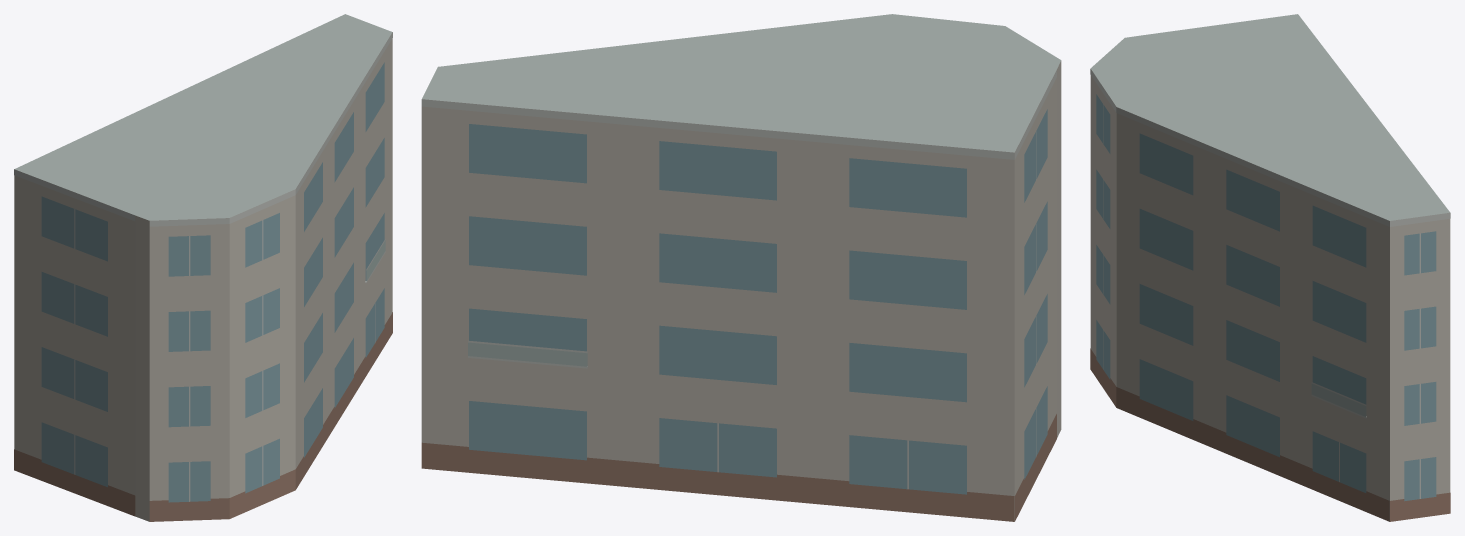
The model's file is residential-f1075dba-1401-4f20-81ba-eef03410942c.glb.
3 renders of one model, left to right at view 1: azimuth 30°, elevation 25°; view 2: azimuth 150°, elevation 25°; view 3: azimuth 270°, elevation 25°, orthographic. The views are drawn at different scales.
Parts seen in each view (by area): view 1: residential-f1075dba-1401-4f20-81ba-eef03410942c.tmp; view 2: residential-f1075dba-1401-4f20-81ba-eef03410942c.tmp; view 3: residential-f1075dba-1401-4f20-81ba-eef03410942c.tmp.
Part boxes in pixels (<box>): residential-f1075dba-1401-4f20-81ba-eef03410942c.tmp: <box>14,14,392,521</box>; residential-f1075dba-1401-4f20-81ba-eef03410942c.tmp: <box>421,14,1061,521</box>; residential-f1075dba-1401-4f20-81ba-eef03410942c.tmp: <box>1090,14,1450,521</box>.
Size of the model in its own units: 18 by 12.2 by 13.24.
